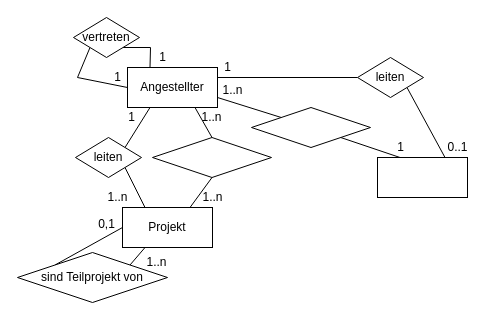
This 495x320 diagram has some shape labels left out. Each missing label, with the centre of its shape:
"Abteilung" goes at point 422,177.
"arbeiten an" goes at point 212,157.
"gehören zu" goes at point 310,127.
